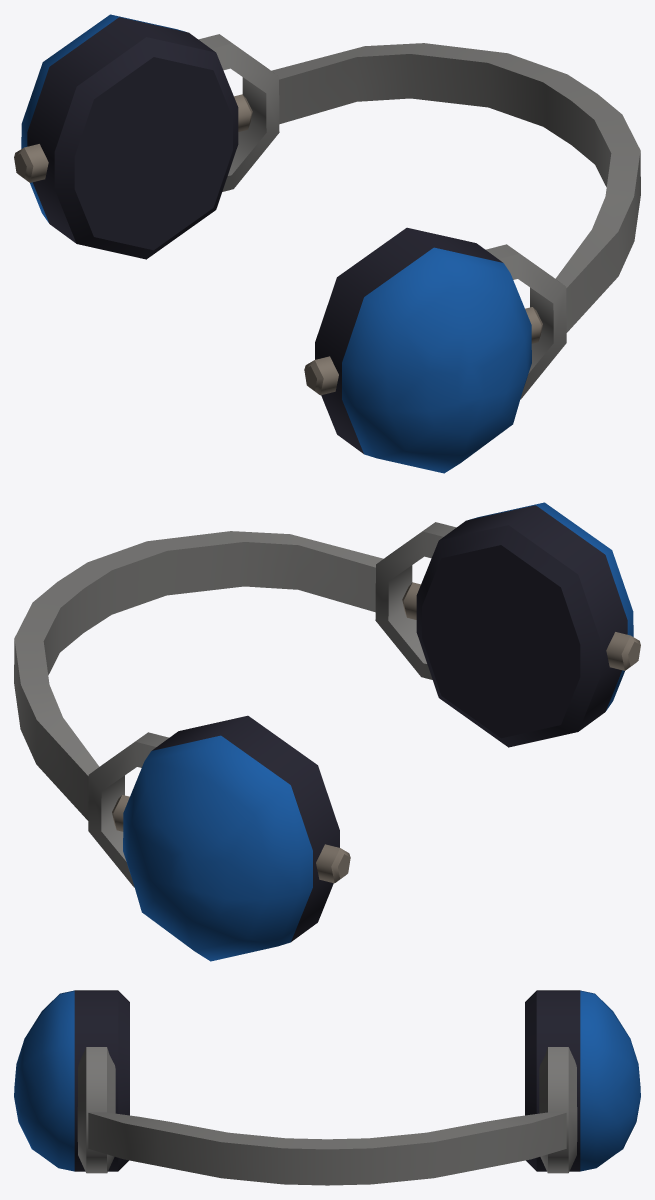
The model's file is EarMuffs_Helmet_3.glb.
The picture shows the model from 3 angles, top to bottom: view 1: azimuth 30°, elevation 25°; view 2: azimuth 150°, elevation 25°; view 3: azimuth 270°, elevation 25°; orthographic projection. The views are drawn at different scales.
Visible parts, largest first — view 1: EarMuffs_Helmet_3; view 2: EarMuffs_Helmet_3; view 3: EarMuffs_Helmet_3.
Part boxes in pixels (x1,y1,x2,y2): EarMuffs_Helmet_3: (14,14,640,473); EarMuffs_Helmet_3: (14,502,640,961); EarMuffs_Helmet_3: (14,990,640,1185).
Size of the model in its own units: 0.4417 by 0.2172 by 0.6905.
Materials: 1 (1 with a texture image).
